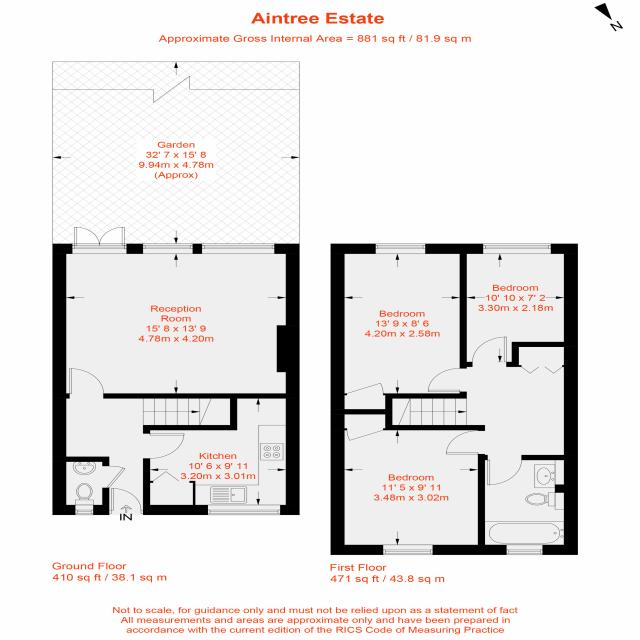DOOR: (68, 367, 105, 398), (142, 433, 185, 459), (471, 336, 507, 367), (486, 455, 522, 485), (427, 367, 467, 393), (444, 430, 485, 455), (107, 488, 144, 515)
DOUBLE DOOR: (70, 225, 128, 254)
ROOM: (52, 226, 300, 399), (330, 243, 467, 415), (330, 409, 485, 555), (143, 393, 300, 515), (459, 243, 578, 367)
WINDOW: (206, 504, 282, 516), (200, 243, 275, 255), (482, 243, 552, 255), (382, 544, 434, 556), (142, 243, 194, 255), (375, 243, 426, 254), (506, 544, 543, 555), (75, 505, 94, 515)
